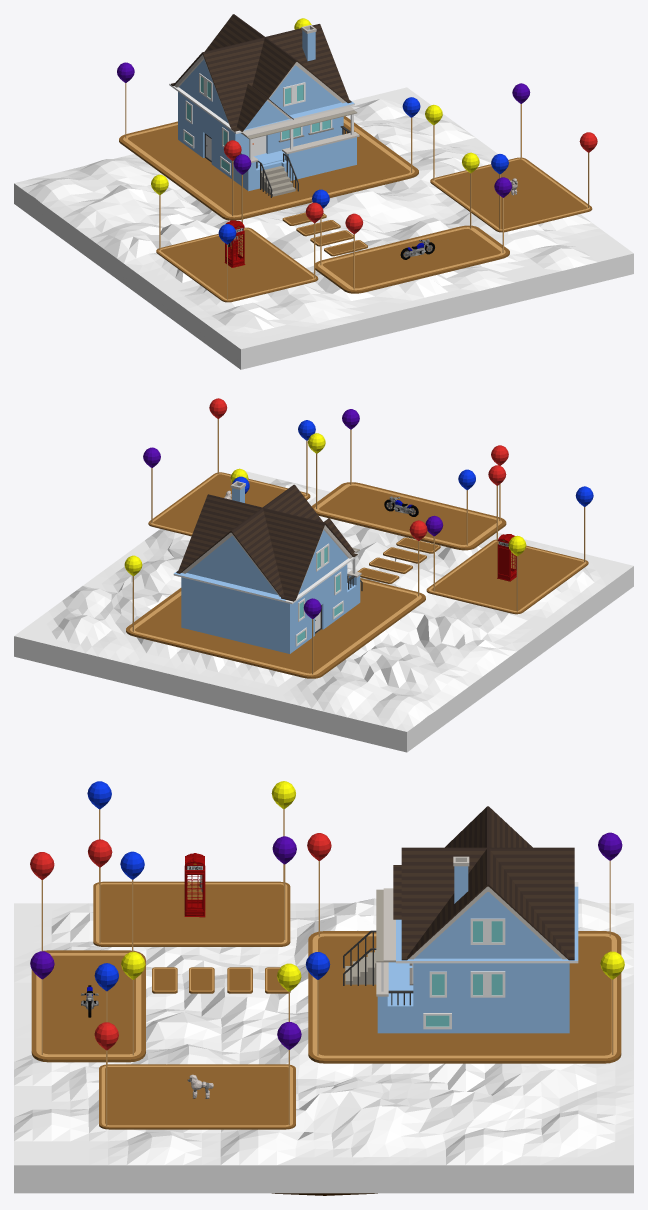
3 views of the same model, one above another, from view 1: azimuth 30°, elevation 25°; view 2: azimuth 150°, elevation 25°; view 3: azimuth 270°, elevation 25° (orthographic). The views are drawn at different scales.
Visible parts, largest first — view 1: Cube.013, Cube.1594, OBJRANDOM_PHONEBOOTH; view 2: Cube.013, Cube.1594, OBJRANDOM_PHONEBOOTH; view 3: Cube.013, Cube.1594, OBJRANDOM_PHONEBOOTH.
Boxes of the visible parts, x1,y1,x2,y2 form: Cube.013: (14, 18, 633, 369); Cube.1594: (169, 14, 359, 197); OBJRANDOM_PHONEBOOTH: (224, 220, 245, 267); Cube.013: (14, 398, 633, 752); Cube.1594: (173, 481, 362, 653); OBJRANDOM_PHONEBOOTH: (497, 534, 516, 581); Cube.013: (14, 781, 633, 1193); Cube.1594: (343, 806, 578, 1033); OBJRANDOM_PHONEBOOTH: (184, 853, 205, 917).
Bounding box in the file's own units: 4000 × 1754 × 4000.
40 materials, 1 textured.
